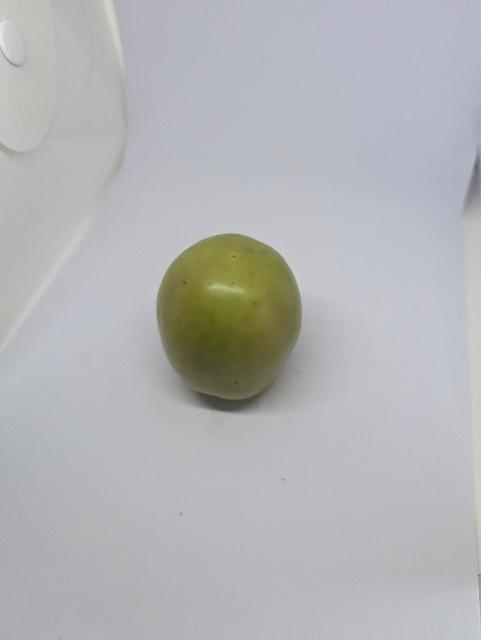green: (135, 219, 327, 416)
